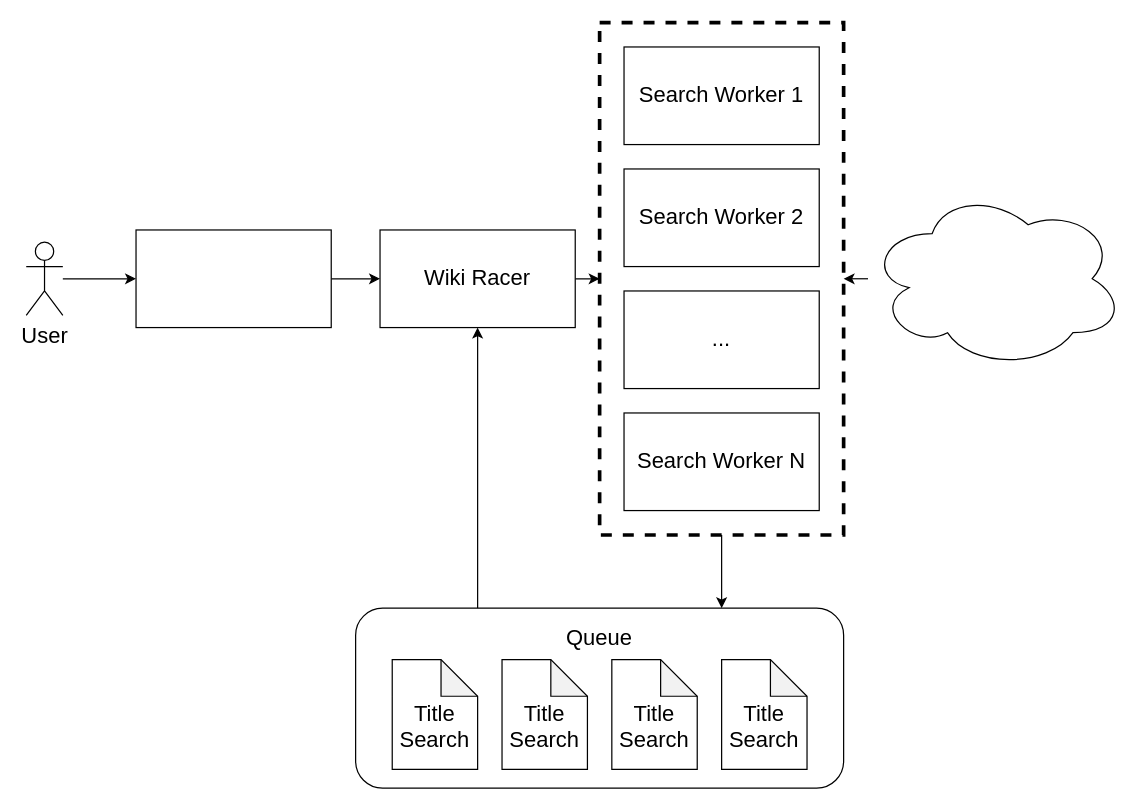
The diagram is 1146 pixels wide and 810 high, and some of its shapes have lost their labels. Here are the shapes that lost their labels. From the top down, the centre of each, then its label:
point (233, 278): API Controller
point (995, 278): MediaWiki API
